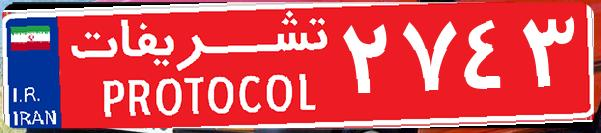2: (340, 20, 400, 115)
3: (520, 20, 580, 115)
4: (460, 20, 520, 115)
7: (400, 20, 460, 115)
تشریفات: (60, 8, 340, 125)
